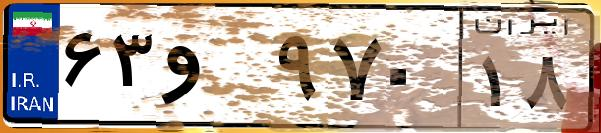0: (385, 28, 445, 110)
1: (475, 38, 525, 113)
3: (110, 28, 158, 98)
6: (57, 26, 110, 100)
7: (330, 28, 385, 110)
8: (525, 38, 570, 115)
9: (270, 28, 330, 110)
و: (158, 20, 270, 120)
